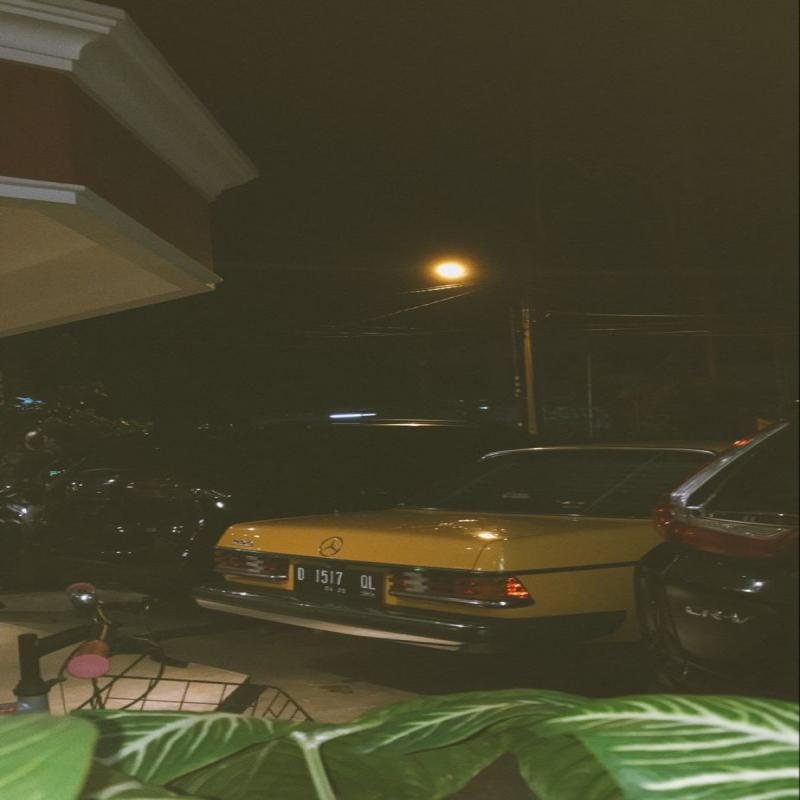license plate on a car: (295, 563, 383, 604)
